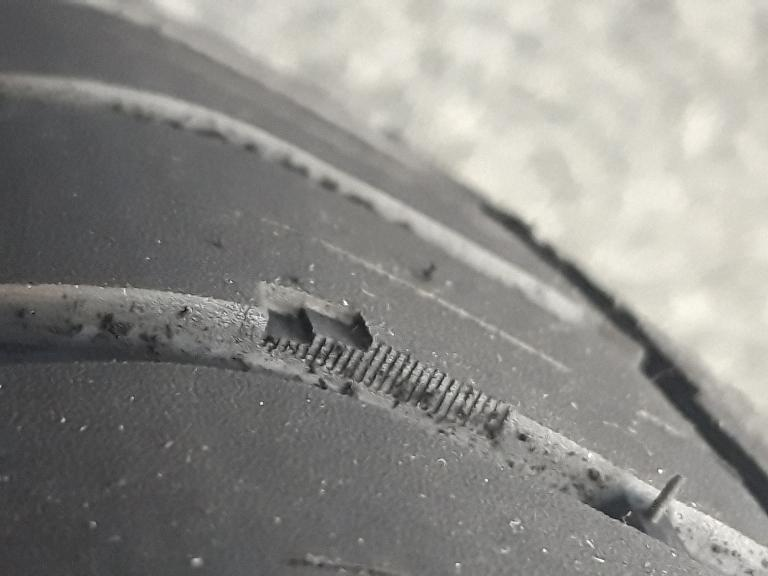temoin:25: (238, 270, 406, 399)
